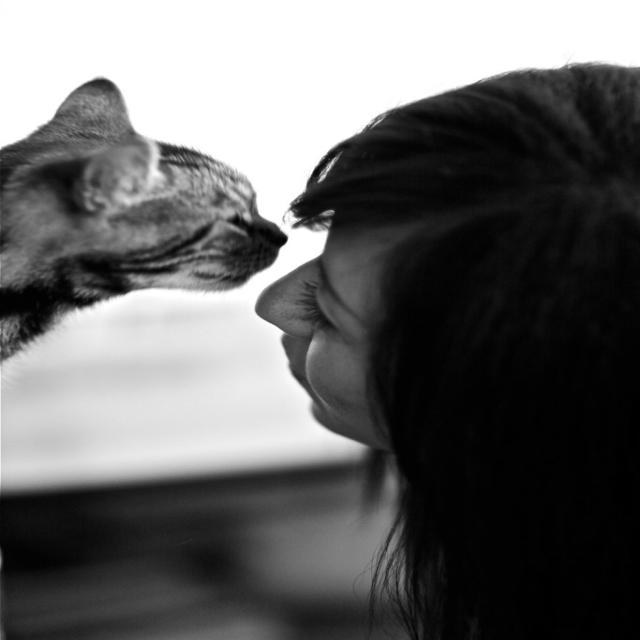Cat: (0, 76, 290, 390)
